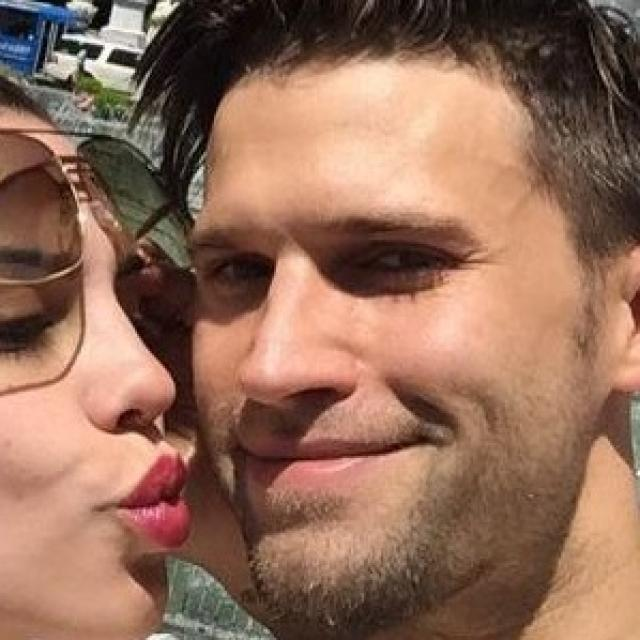Normal: (183, 61, 589, 631)
